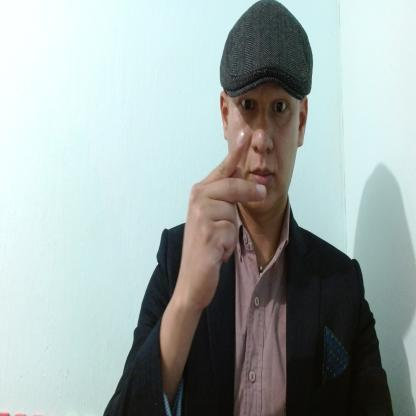P: (181, 127, 269, 310)
